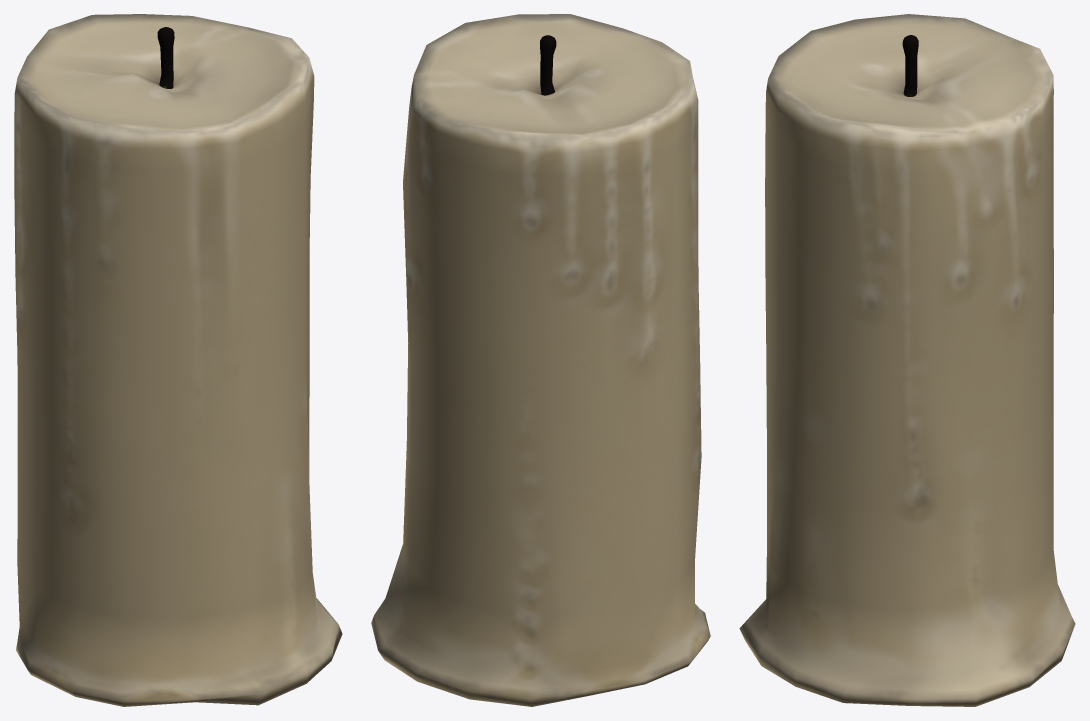
The model's file is candle_03.fbx.
3 views of the same model, side by side, from view 1: azimuth 30°, elevation 25°; view 2: azimuth 150°, elevation 25°; view 3: azimuth 270°, elevation 25° (orthographic). The views are drawn at different scales.
Parts seen in each view (by area): view 1: Candle_003; view 2: Candle_003; view 3: Candle_003.
Part boxes in pixels (<box>): Candle_003: <box>14,14,342,706</box>; Candle_003: <box>371,14,710,706</box>; Candle_003: <box>739,14,1075,706</box>.
Size of the model in its own units: 50.06 by 101 by 51.08.
